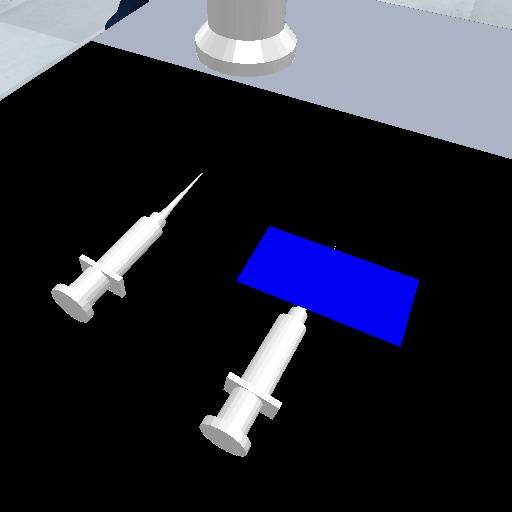jeringuilla: (48, 166, 205, 329), (195, 294, 312, 463)
